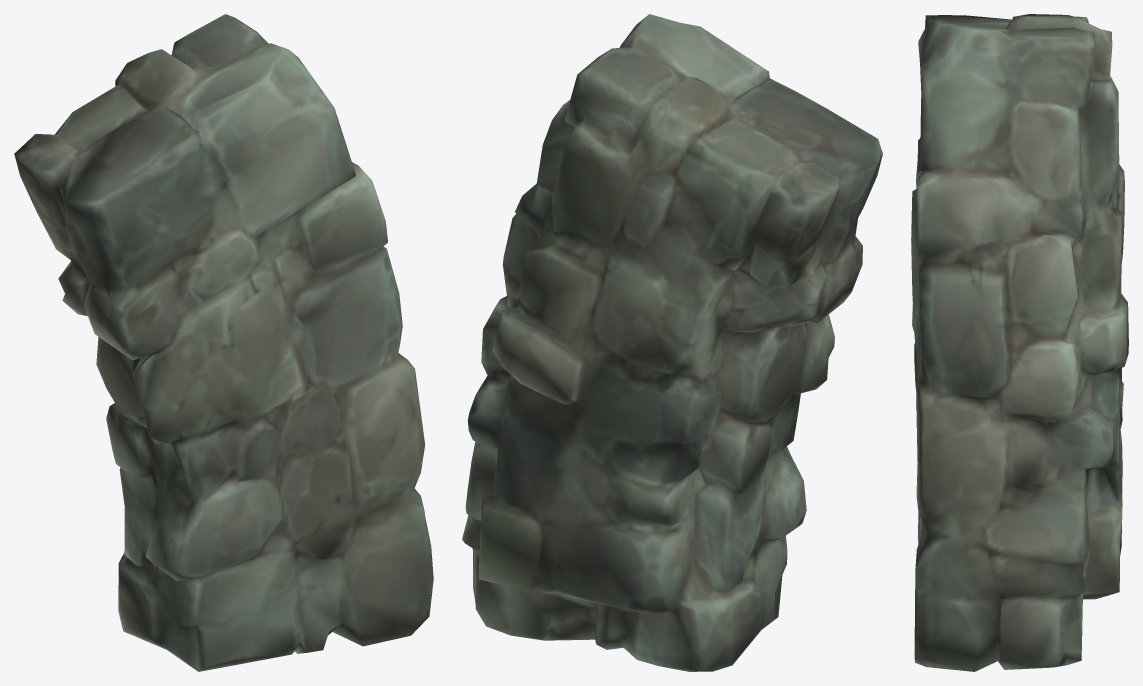
File: Wall_Cnr_Top_Bend_A.fbx
3 views of the same model, side by side, from view 1: azimuth 30°, elevation 25°; view 2: azimuth 150°, elevation 25°; view 3: azimuth 270°, elevation 25° (orthographic).
Visible parts, largest first — view 1: Wall_Cnr_Top_Bend_A; view 2: Wall_Cnr_Top_Bend_A; view 3: Wall_Cnr_Top_Bend_A.
Part boxes in pixels (left/top/right/bottom): Wall_Cnr_Top_Bend_A: left=14, top=14, right=433, bottom=671; Wall_Cnr_Top_Bend_A: left=462, top=14, right=882, bottom=671; Wall_Cnr_Top_Bend_A: left=911, top=14, right=1128, bottom=671.
Size of the model in its own units: 564 by 908 by 304.
